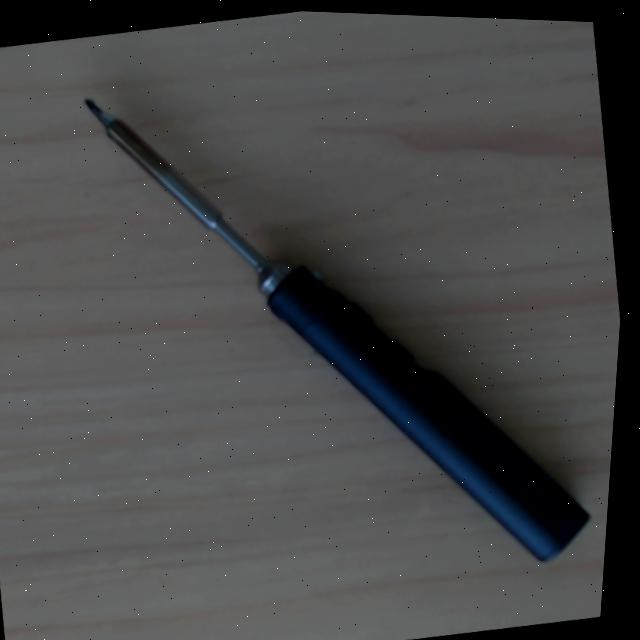Soldering-Iron: (65, 70, 592, 566)
